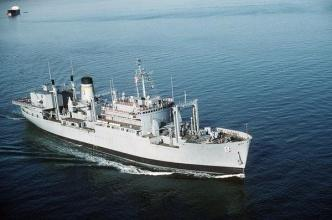warship: (12, 71, 257, 178)
